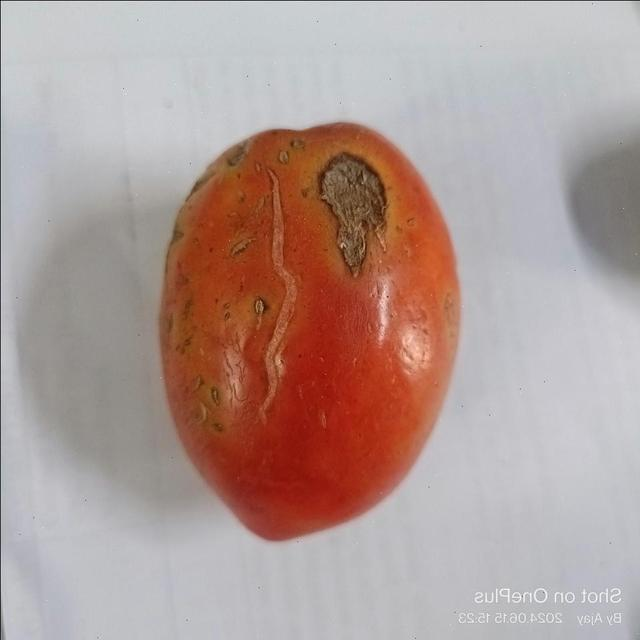Cracking Fruit: (176, 118, 241, 187)
